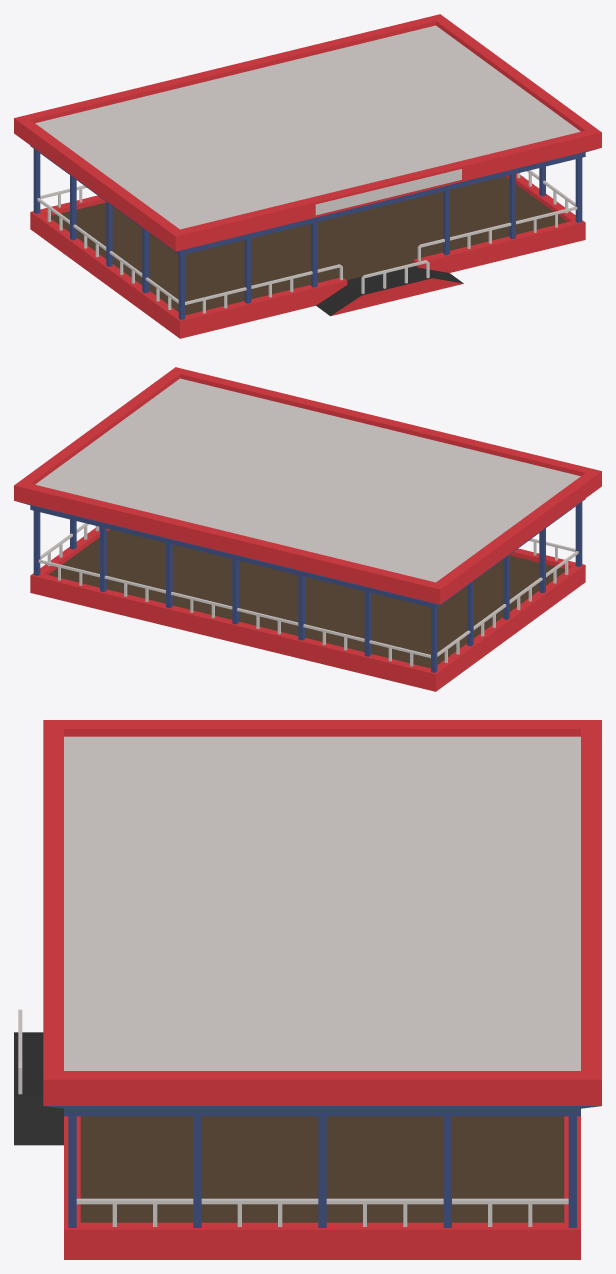
Rendered from bumper-cars-booth.glb.
3 renders of one model, top to bottom at view 1: azimuth 30°, elevation 25°; view 2: azimuth 150°, elevation 25°; view 3: azimuth 270°, elevation 25°, orthographic. The views are drawn at different scales.
Parts seen in each view (by area): view 1: bumper-cars-booth; view 2: bumper-cars-booth; view 3: bumper-cars-booth.
Part boxes in pixels (box(x1,y1,x2,y2)): bumper-cars-booth: box(14, 14, 601, 338); bumper-cars-booth: box(14, 367, 601, 691); bumper-cars-booth: box(14, 720, 601, 1259).
Bounding box in the file's own units: 20.4 × 5 × 14.1.
Materials: 1 (1 with a texture image).
